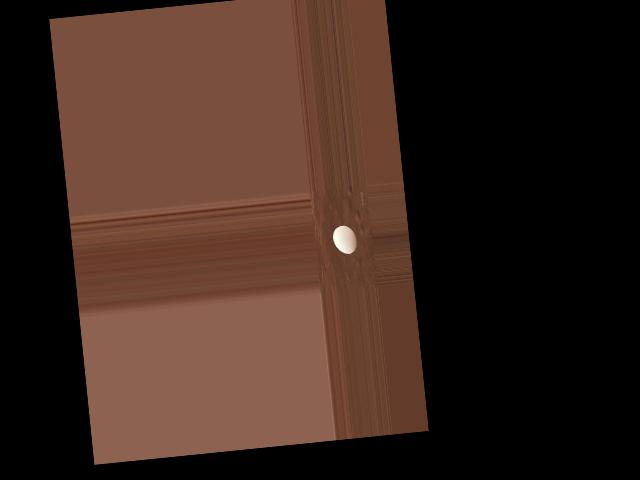egg: (332, 224, 357, 255)
